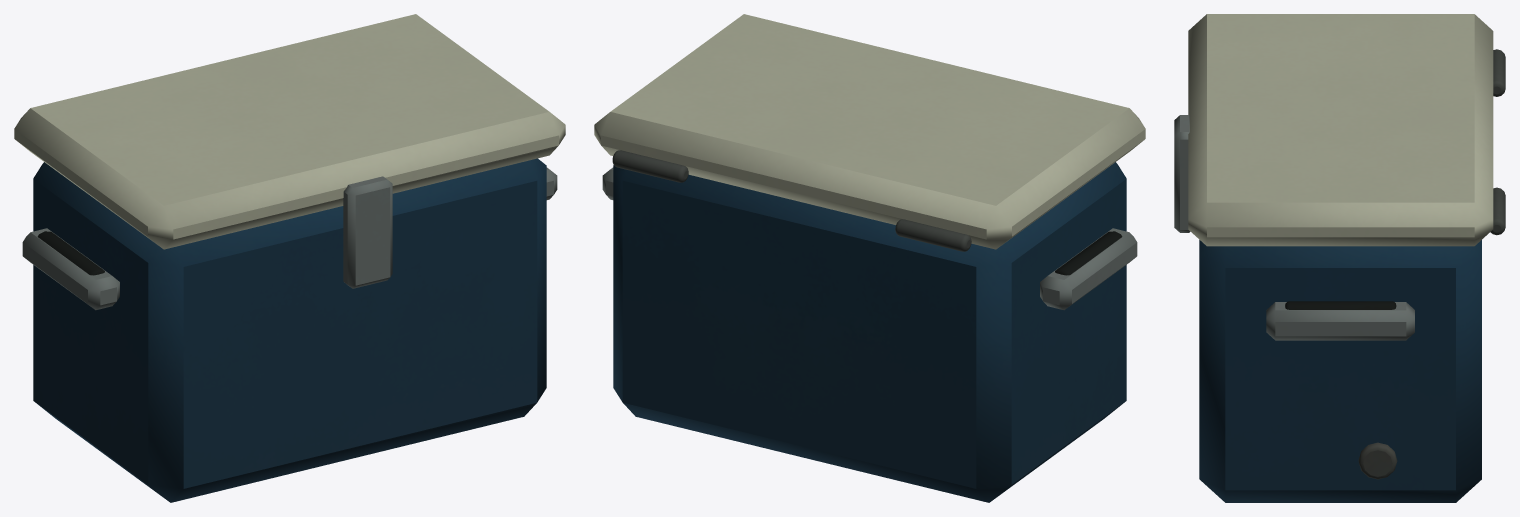
The model's file is level_camp_cooler_authored.glb.
The picture shows the model from 3 angles, left to right: view 1: azimuth 30°, elevation 25°; view 2: azimuth 150°, elevation 25°; view 3: azimuth 270°, elevation 25°; orthographic projection.
Visible parts, largest first — view 1: level_camp_cooler_authored; view 2: level_camp_cooler_authored; view 3: level_camp_cooler_authored.
Part boxes in pixels (x1=…): level_camp_cooler_authored: x1=14, y1=14, x2=565, y2=502; level_camp_cooler_authored: x1=594, y1=14, x2=1145, y2=502; level_camp_cooler_authored: x1=1174, y1=14, x2=1505, y2=502.
Size of the model in its own units: 0.73 by 0.4575 by 0.446.
Materials: 1 (1 with a texture image).
